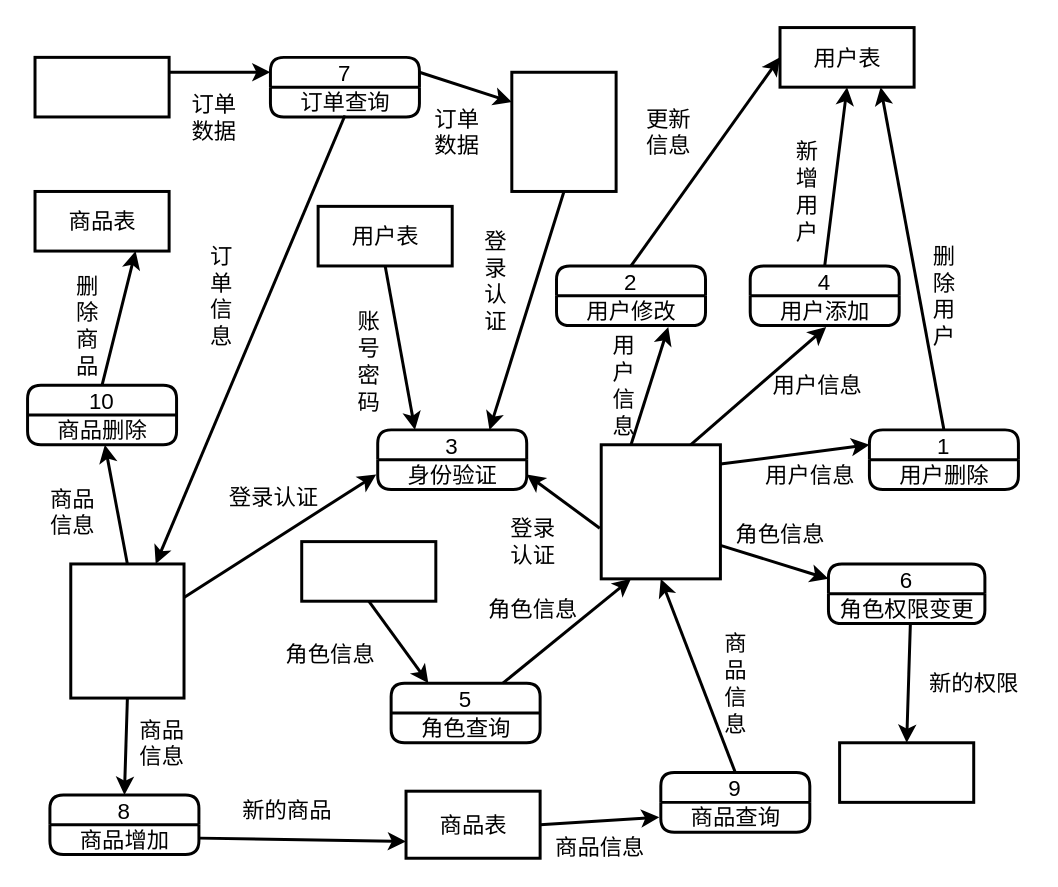
Image size: 1058x887. Some labels were removed from this diagram. Here are the shapes that lost their labels. From the top down, the centre of each, then its label:
At (101,86): "订单表".
At (563,131): "业务员".
At (660,511): "系统管理员".
At (368,570): "角色表".
At (127,630): "商店老板".
At (905,772): "菜单表".
